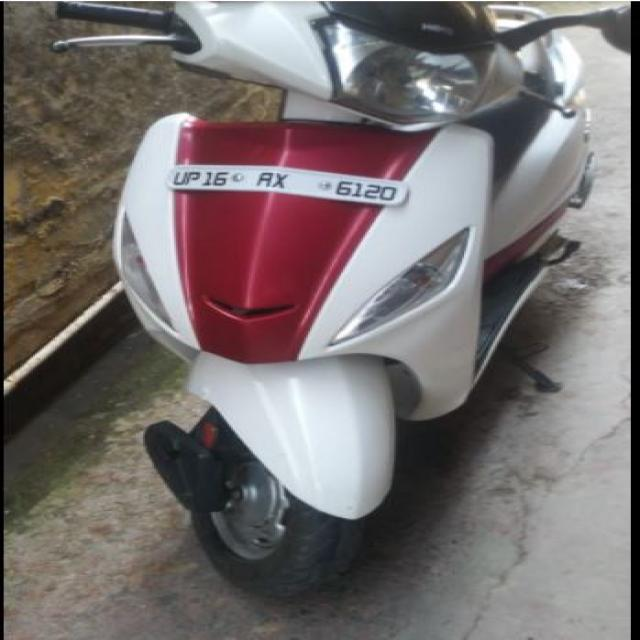number plate: (165, 162, 408, 207)
